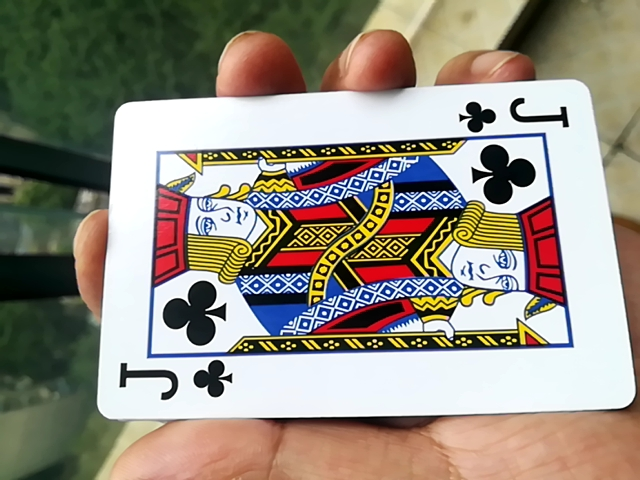mh j: (75, 89, 630, 430)
